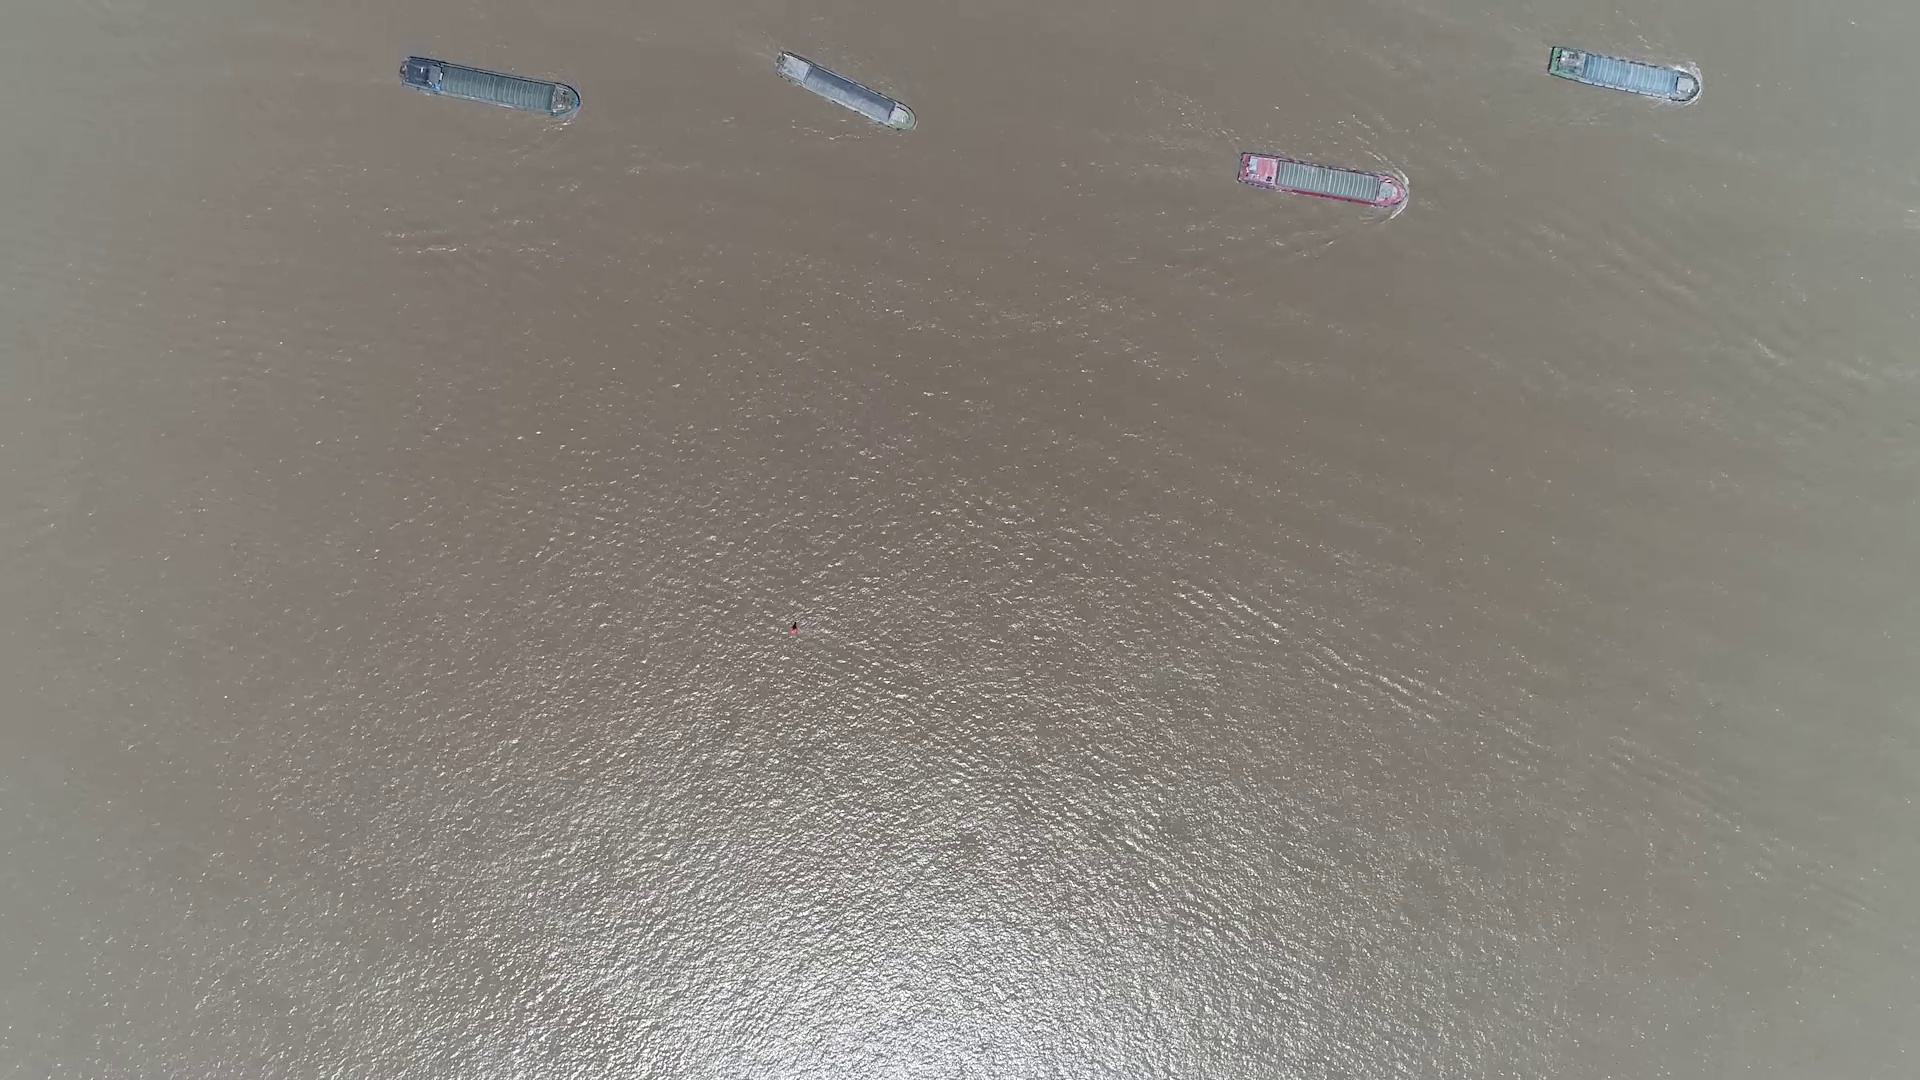ship: (397, 55, 579, 117), (773, 55, 913, 129), (1236, 154, 1408, 210), (1545, 50, 1698, 102)
